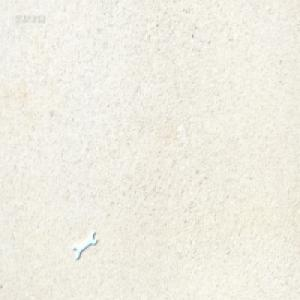Wrench: (75, 232, 99, 260)
